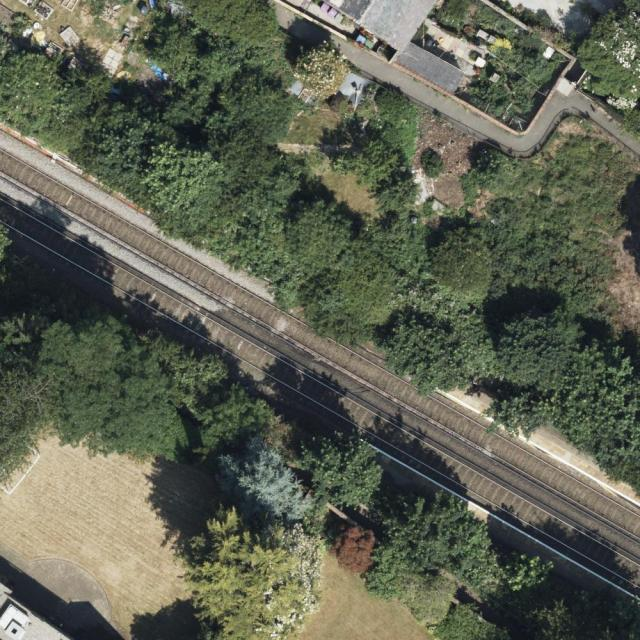roof: (331, 0, 469, 99), (0, 590, 78, 640)
